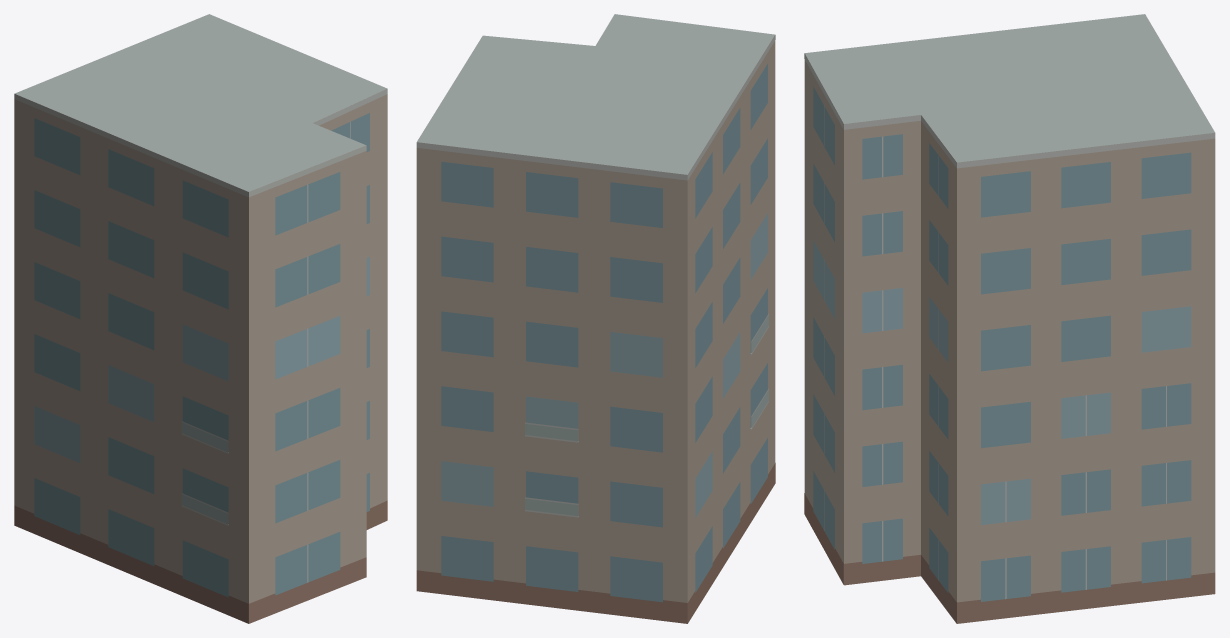
Rendered from survey-upis-32857862.glb.
The picture shows the model from 3 angles, left to right: view 1: azimuth 30°, elevation 25°; view 2: azimuth 150°, elevation 25°; view 3: azimuth 270°, elevation 25°; orthographic projection. The views are drawn at different scales.
Parts seen in each view (by area): view 1: survey-upis-32857862.tmp; view 2: survey-upis-32857862.tmp; view 3: survey-upis-32857862.tmp.
Boxes of the visible parts, x1,y1,x2,y2 form: survey-upis-32857862.tmp: (14,14,387,623); survey-upis-32857862.tmp: (416,14,775,623); survey-upis-32857862.tmp: (804,14,1215,623).
Size of the model in its own units: 13.48 by 19.5 by 15.75.
